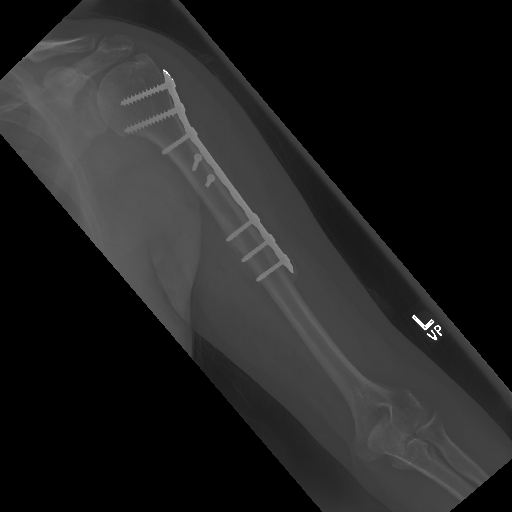implant: (119, 66, 294, 281)
